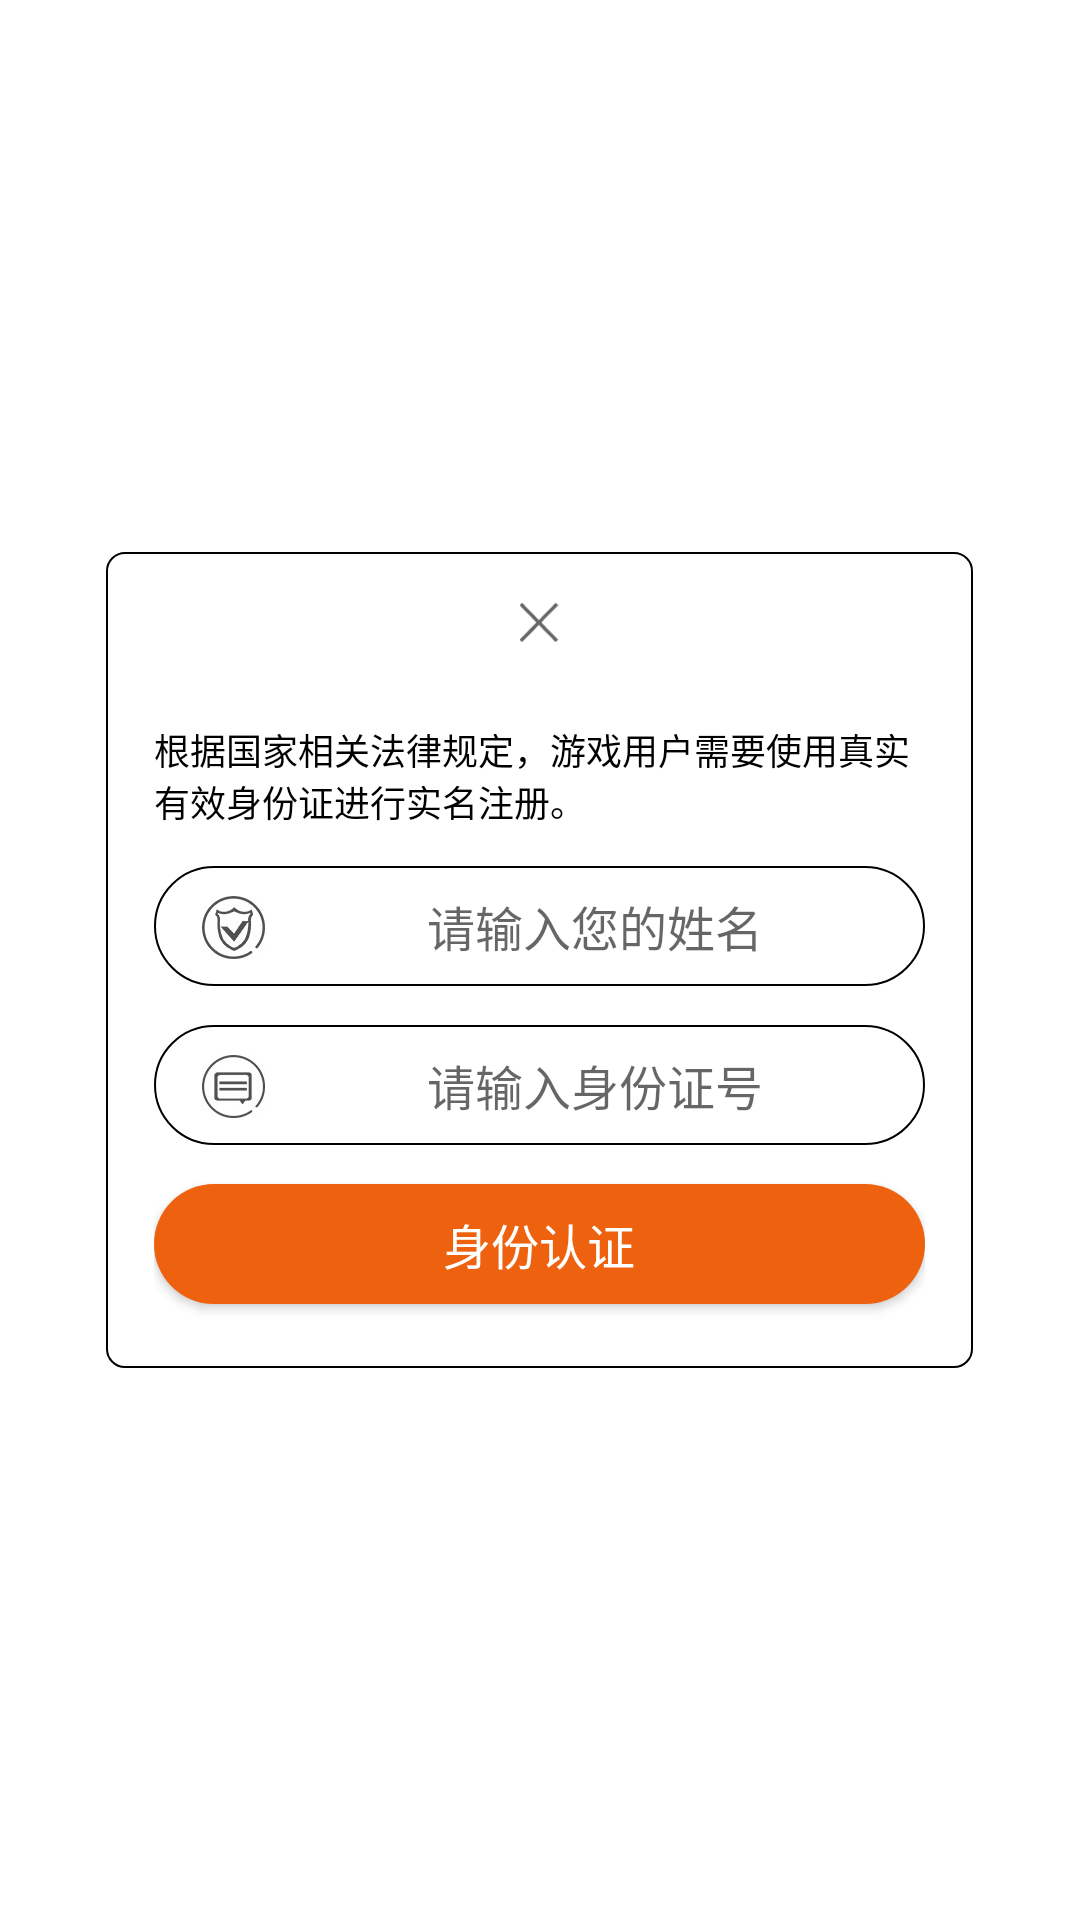

Icons on this 1080px x 1920px Android screen, each with its box as bbox=[x1, y1, x2, y2]:
ui iv close: bbox=[520, 603, 559, 642]
ui iv id number: bbox=[202, 1055, 265, 1118]
ui iv realname: bbox=[202, 896, 265, 959]
